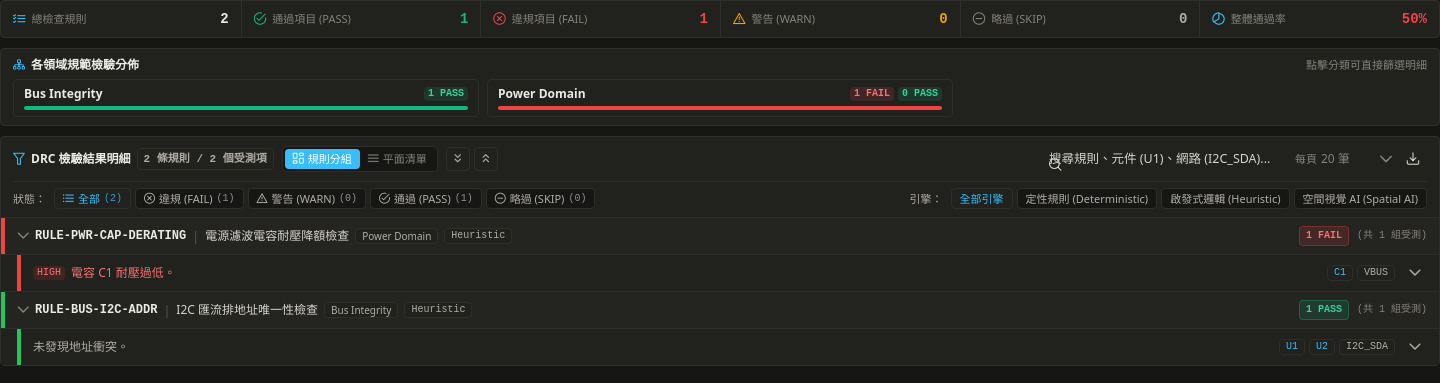
Test: TaskReportDashboard.vue › 支援點擊頂部指標卡進行連動過濾
點擊 FAIL 指標卡
Click the element with class "card-fail" at x=600, y=19, box [480, 1, 720, 37]
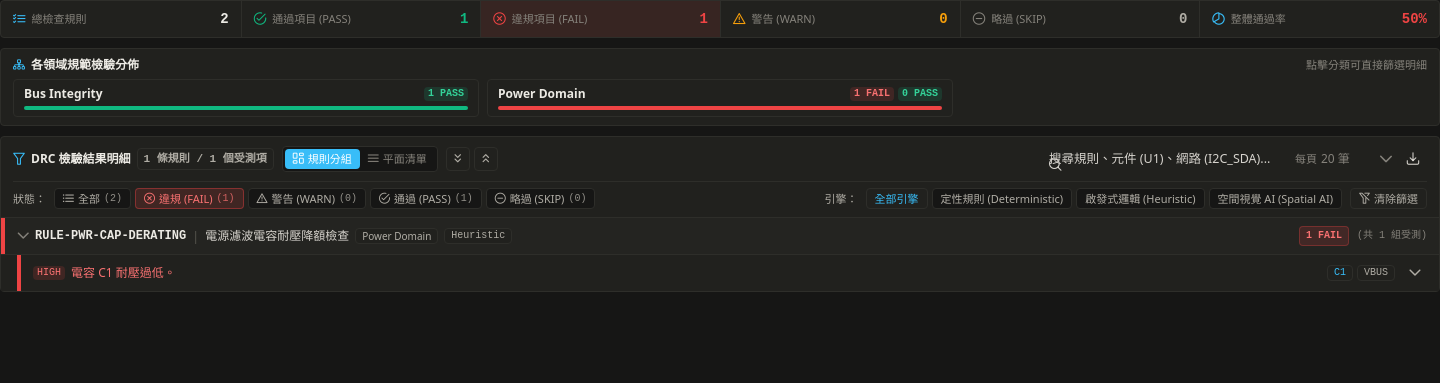
Check: the element with class "rule-group-card" shows "電源濾波電容耐壓降額檢查", box [205, 227, 349, 244]
Check: the number of elements with class "rule-group-card" is 1, box [1, 218, 1439, 291]
點擊 PASS 指標卡
Click the element with class "card-pass" at x=361, y=19, box [241, 1, 480, 37]
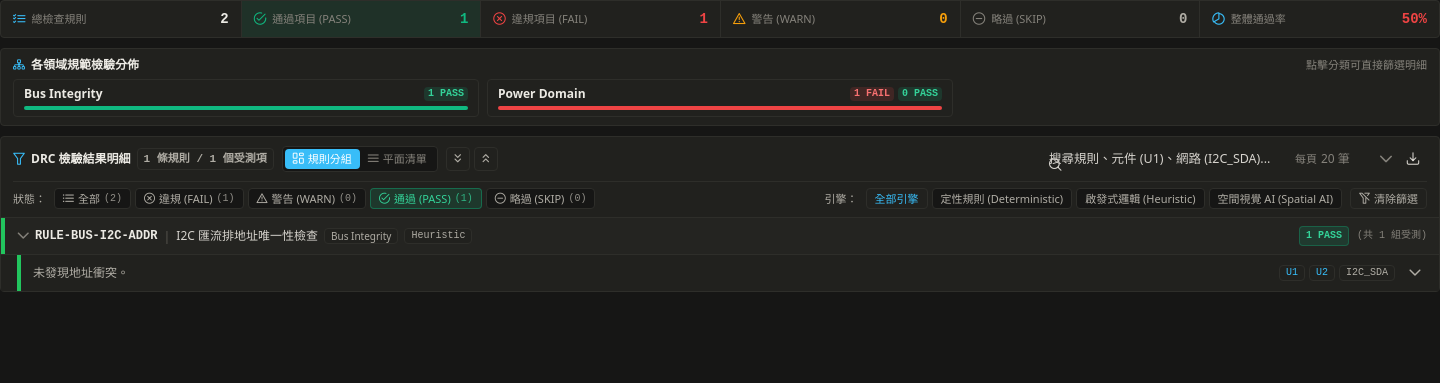
Check: the number of elements with class "rule-group-card" is 1, box [1, 218, 1439, 291]
Check: the element with class "rule-group-card" shows "I2C 匯流排地址唯一性檢查", box [176, 227, 318, 244]
點擊 總檢查 指標卡回退至全部
Click the element with class "card-total" at x=59, y=19, box [13, 11, 229, 27]
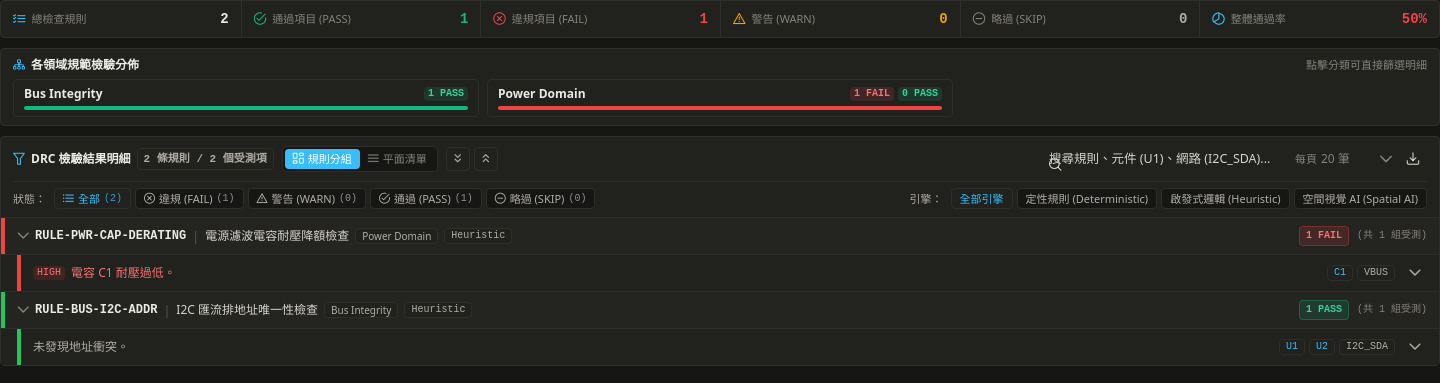
Check: the number of elements with class "rule-group-card" is 2, box [1, 218, 1439, 292]; [1, 292, 1439, 365]
